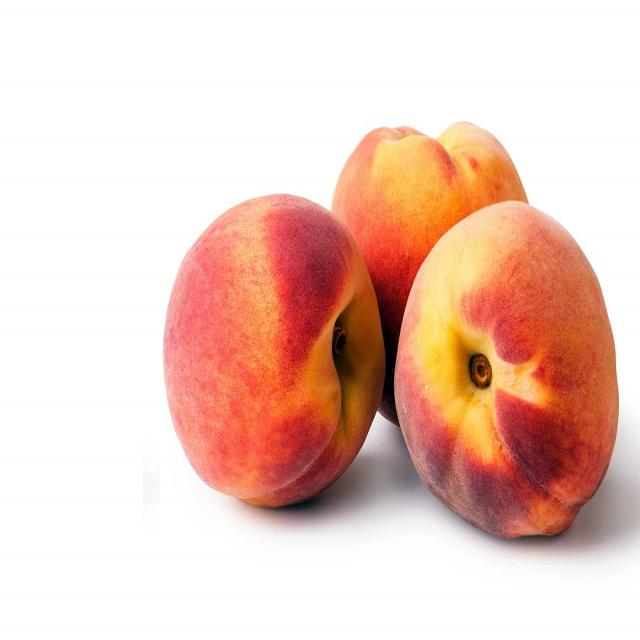peach: (395, 201, 620, 537), (163, 195, 385, 505), (330, 123, 531, 345)
